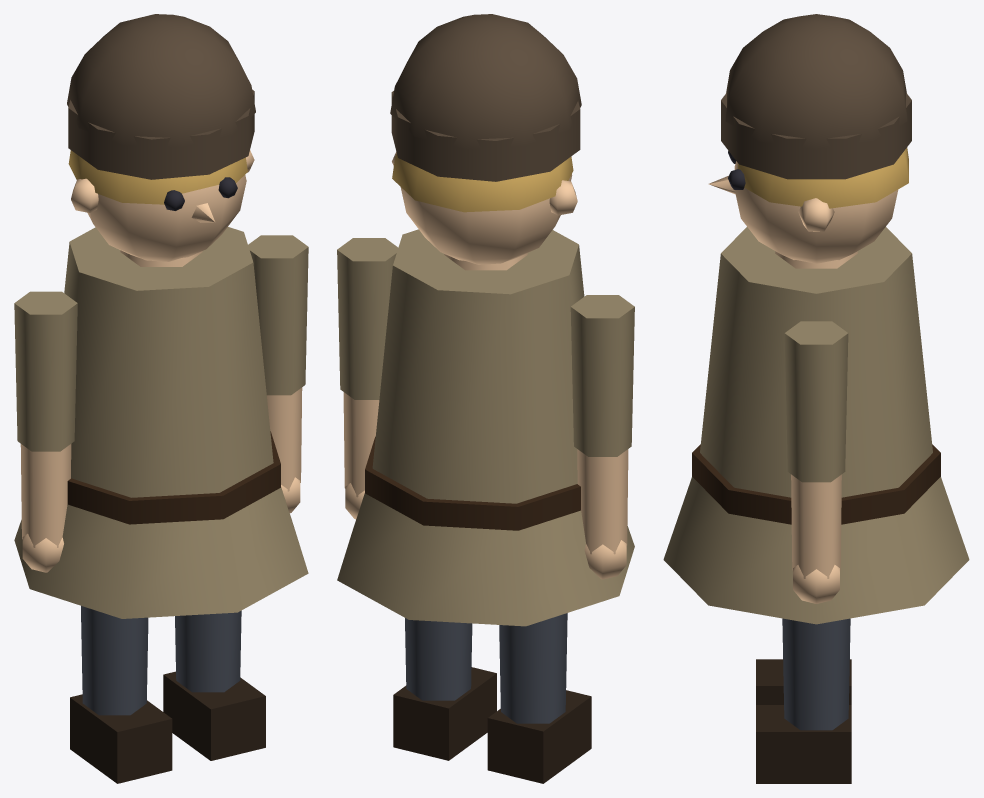
Rendered from w_seilerei.glb.
3 views of the same model, side by side, from view 1: azimuth 30°, elevation 25°; view 2: azimuth 150°, elevation 25°; view 3: azimuth 270°, elevation 25° (orthographic).
Parts seen in each view (by area): view 1: worker, arm_l, leg_l, leg_r, arm_r; view 2: worker, arm_l, leg_l, leg_r, arm_r; view 3: worker, arm_r, leg_r, leg_l.
Part boxes in pixels (x1,y1,x2,y2): worker: (14, 14, 308, 618); arm_l: (14, 291, 77, 572); leg_l: (70, 606, 172, 783); leg_r: (163, 610, 265, 760); arm_r: (248, 235, 308, 513); worker: (337, 14, 634, 626); arm_l: (570, 295, 634, 579); leg_l: (487, 613, 591, 783); leg_r: (393, 618, 496, 760); arm_r: (337, 238, 398, 519); worker: (663, 14, 969, 624); arm_r: (784, 321, 848, 603); leg_r: (756, 618, 851, 783); leg_l: (756, 659, 851, 704).
Bounding box in the file's own units: 0.4053 × 1 × 0.384.
